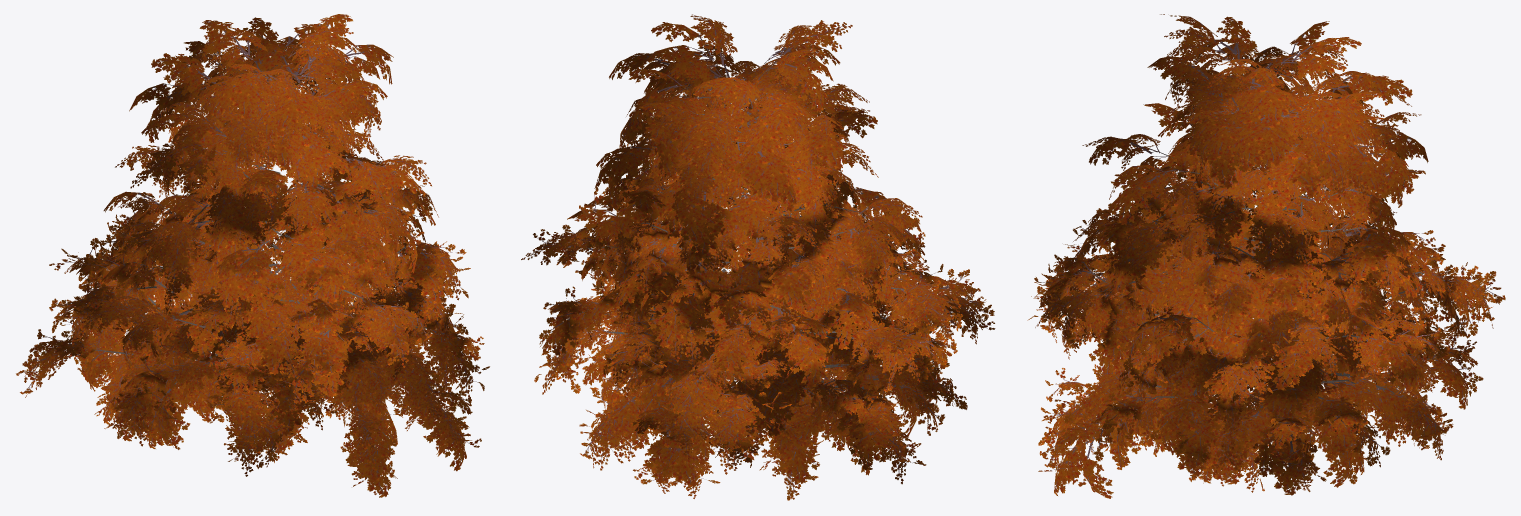
3 views of the same model, side by side, from view 1: azimuth 30°, elevation 25°; view 2: azimuth 150°, elevation 25°; view 3: azimuth 270°, elevation 25° (orthographic). The views are drawn at different scales.
Visible parts, largest first — view 1: SM_MapleTree_01_canopy_LOD0; view 2: SM_MapleTree_01_canopy_LOD0; view 3: SM_MapleTree_01_canopy_LOD0.
Part boxes in pixels (x1=…): SM_MapleTree_01_canopy_LOD0: x1=16, y1=14, x2=489, y2=497; SM_MapleTree_01_canopy_LOD0: x1=521, y1=14, x2=995, y2=500; SM_MapleTree_01_canopy_LOD0: x1=1027, y1=14, x2=1505, y2=498.
Size of the model in its own units: 18.38 by 17.78 by 18.15.
Materials: 2 (2 with a texture image).
